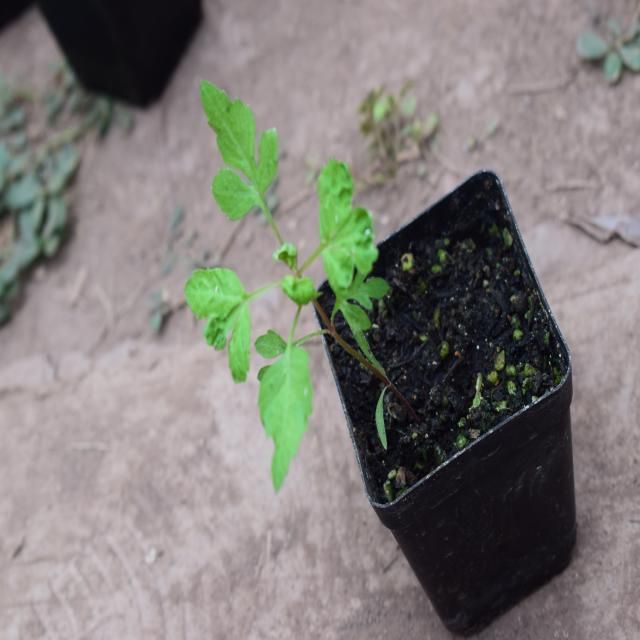Bidens pilosa: (174, 82, 394, 454)
